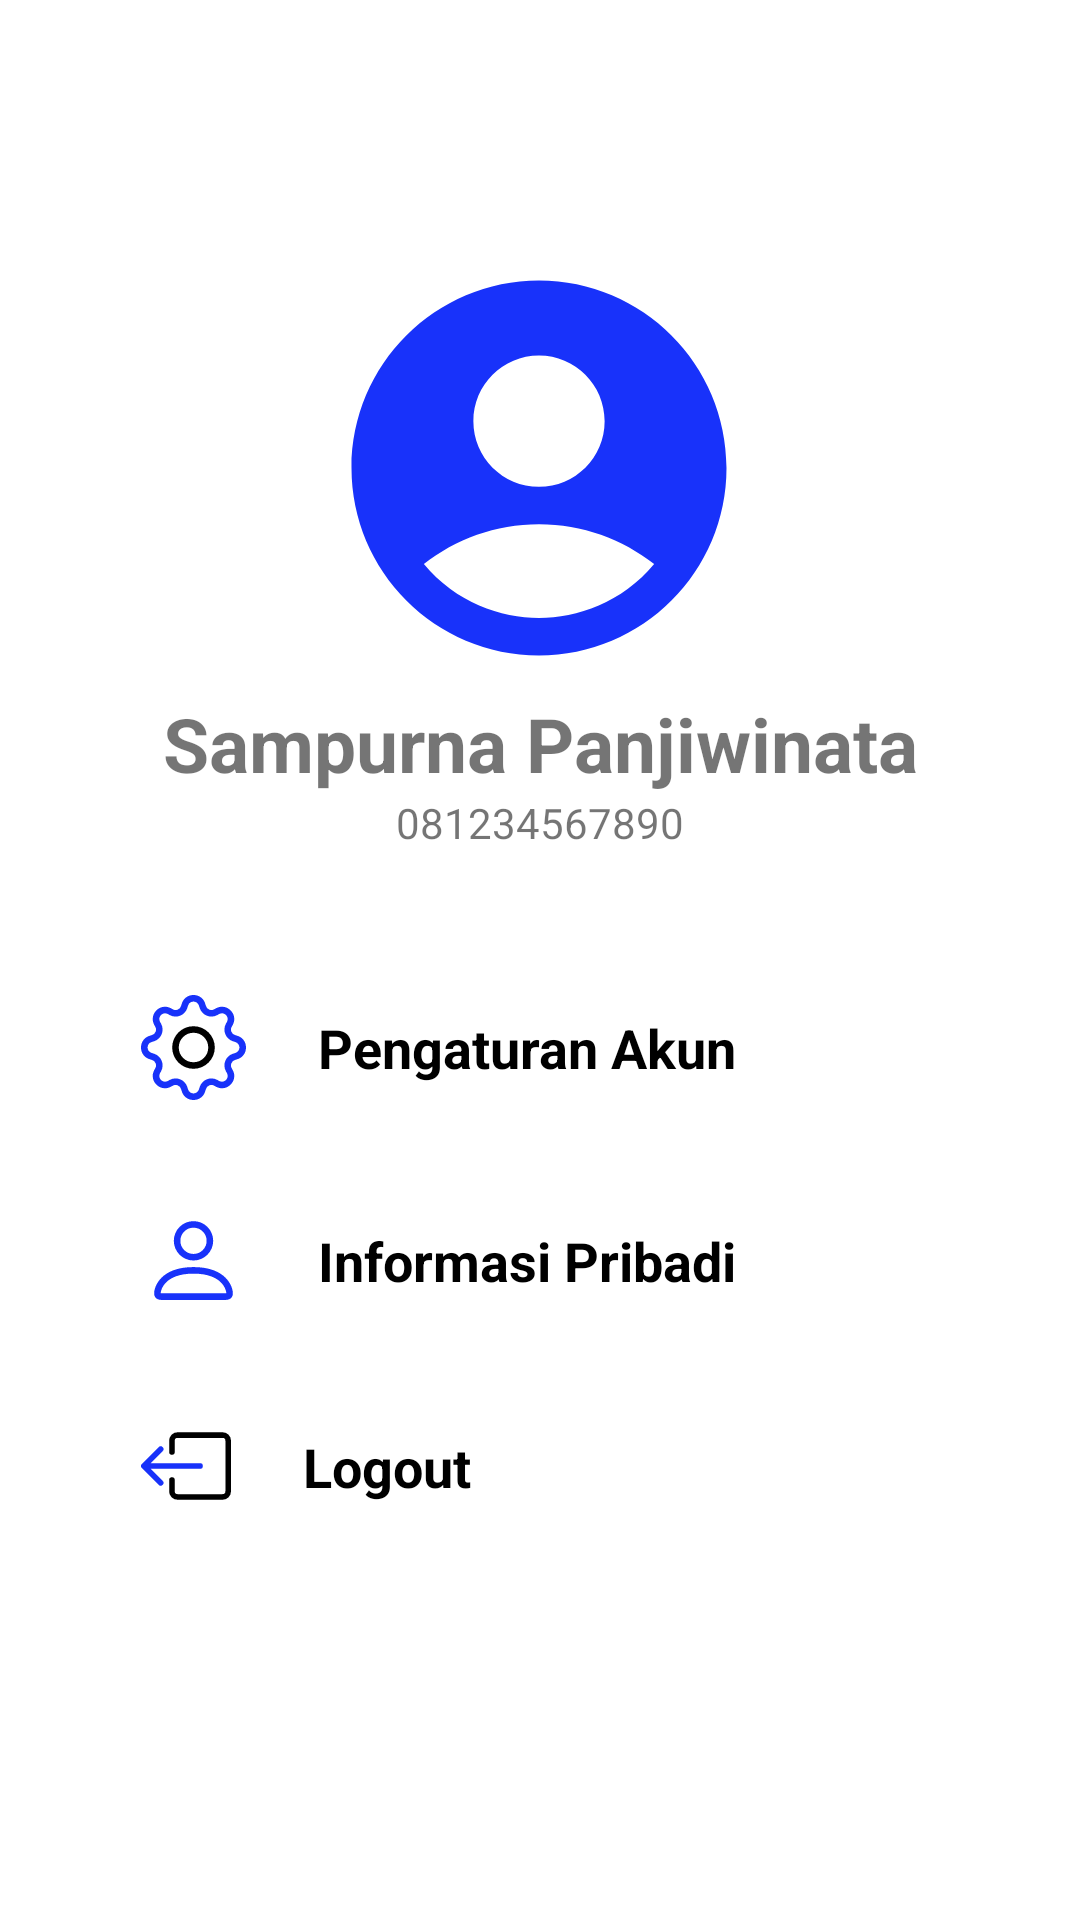

Icon click points for this 1080x1920 phone screenshot, format point (x, y):
exit: point (186, 1466)
gear: point (193, 1047)
person: point (193, 1260)
